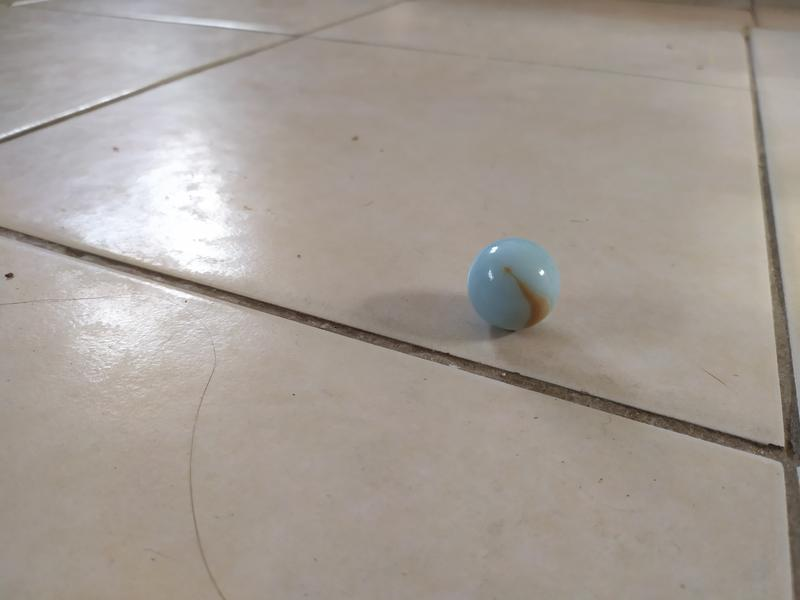Warning: (463, 234, 565, 333)
